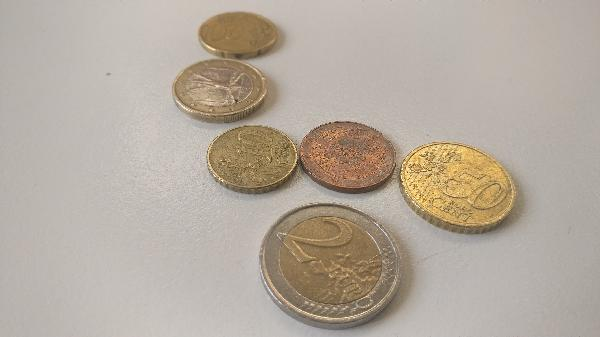Fifty Cent: (401, 139, 516, 231)
Five Cent: (299, 117, 396, 194)
One Euro: (170, 59, 271, 119)
Ten Cent: (205, 122, 299, 194)
Twenty Cent: (196, 9, 286, 58)
Two Euro: (257, 200, 409, 319)
